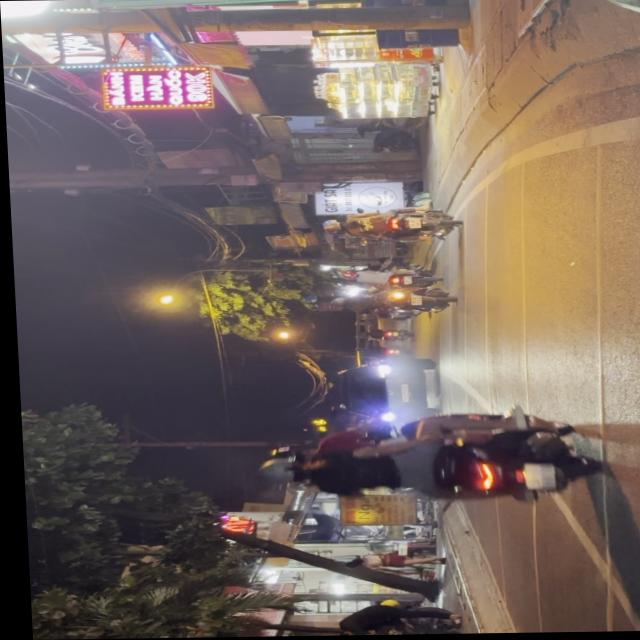helmet: (253, 459, 308, 486)
licenseplate: (247, 408, 608, 512)
nohelmet: (516, 464, 549, 492)
